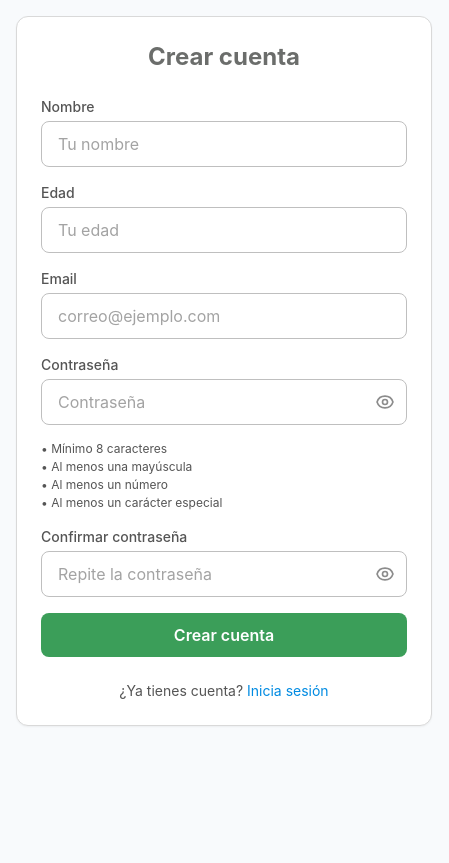
Test case: Register › shows validation errors for empty fields
Click the button "Crear cuenta" at [224, 635], box [41,613,407,657]
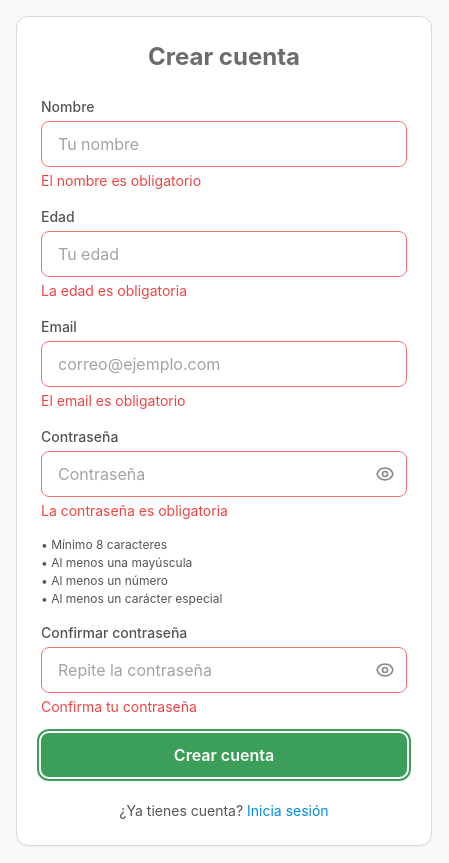
Expected: the text "El nombre es obligatorio" is shown, [41,172,201,189]
Expected: the text "La edad es obligatoria" is shown, [41,282,187,299]
Expected: the text "El email es obligatorio" is shown, [41,392,186,409]
